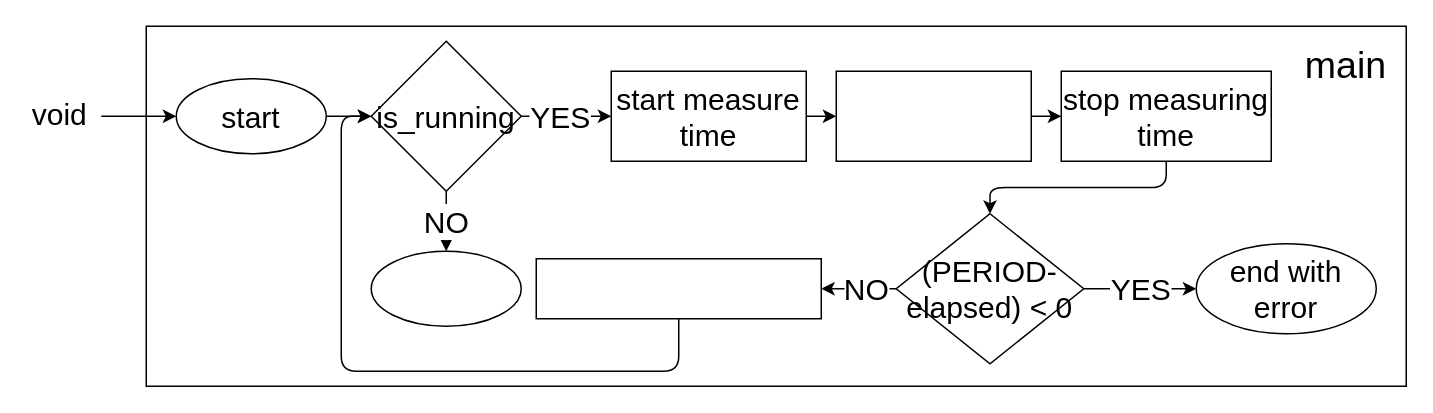
The diagram is 1433 pixels wide and 413 high, and some of its shapes have lost their labels. Here are the shapes that lost their labels. From the top down, the centre of each, then its label:
At [933,115]: "smartNavSys".
At [445,288]: "end".
At [678,288]: "sleep(PERIOD-elapsed)".
